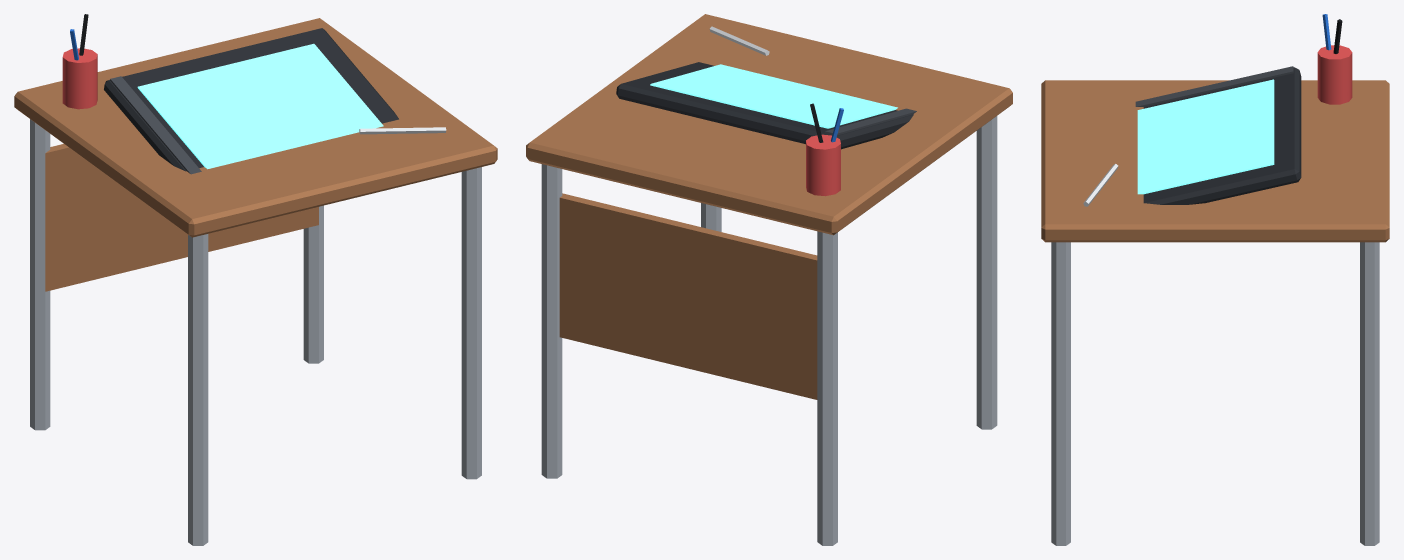
Rendered from graphic_tablet.glb.
The picture shows the model from 3 angles, left to right: view 1: azimuth 30°, elevation 25°; view 2: azimuth 150°, elevation 25°; view 3: azimuth 270°, elevation 25°; orthographic projection. The views are drawn at different scales.
Visible parts, largest first — view 1: graphic_tablet; view 2: graphic_tablet; view 3: graphic_tablet.
Part boxes in pixels (<box>): graphic_tablet: <box>14,14,497,545</box>; graphic_tablet: <box>526,14,1012,545</box>; graphic_tablet: <box>1041,14,1389,545</box>.
Size of the model in its own units: 0.7 by 0.901 by 0.7.
